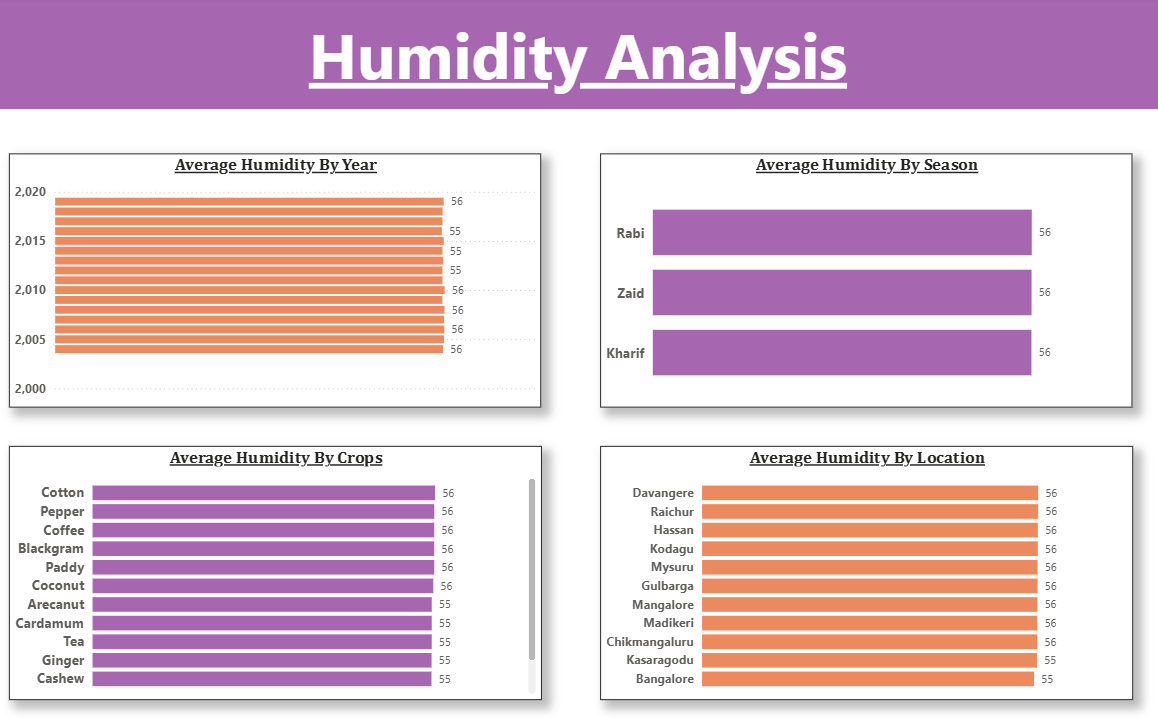

This screenshot's page, from the dashboard's own definition file:
{"tool":"powerbi","page":{"name":"Humidity Analysis","canvas":[1280,793],"ordinal":2},"visuals":[{"type":"clusteredBarChart","title":"Average Humidity By Year","fields":{"Category":["AGRICULTURE.YEAR"],"Y":["Avg(AGRICULTURE.HUMIDITY)"]},"box":[16.2,172.9,583.4,278.6],"z":0},{"type":"shape","box":[0,0,1280,124.4],"z":1000},{"type":"clusteredBarChart","title":"Average Humidity By Season","fields":{"Category":["AGRICULTURE.SEASON"],"Y":["Avg(AGRICULTURE.HUMIDITY)"]},"box":[664.3,172.9,583.4,278.6],"z":2000},{"type":"clusteredBarChart","title":"Average Humidity By Crops","fields":{"Category":["AGRICULTURE.CROPS"],"Y":["Avg(AGRICULTURE.HUMIDITY)"]},"box":[16.4,493.2,583.7,278.1],"z":3000},{"type":"clusteredBarChart","title":"Average Humidity By Location","fields":{"Category":["AGRICULTURE.LOCATION"],"Y":["Avg(AGRICULTURE.HUMIDITY)"]},"box":[664.5,493.2,583.7,278.1],"z":4000}]}

Visuals, with their boxes in screenshot pixels (x1, y1, x2, y2), scaled from the page's 1280x793 canvas onto the 1158x718 screenshot:
"Average Humidity By Year" clusteredBarChart: BBox(15, 157, 542, 409)
shape: BBox(0, 0, 1157, 113)
"Average Humidity By Season" clusteredBarChart: BBox(601, 157, 1129, 409)
"Average Humidity By Crops" clusteredBarChart: BBox(15, 447, 543, 698)
"Average Humidity By Location" clusteredBarChart: BBox(601, 447, 1129, 698)
